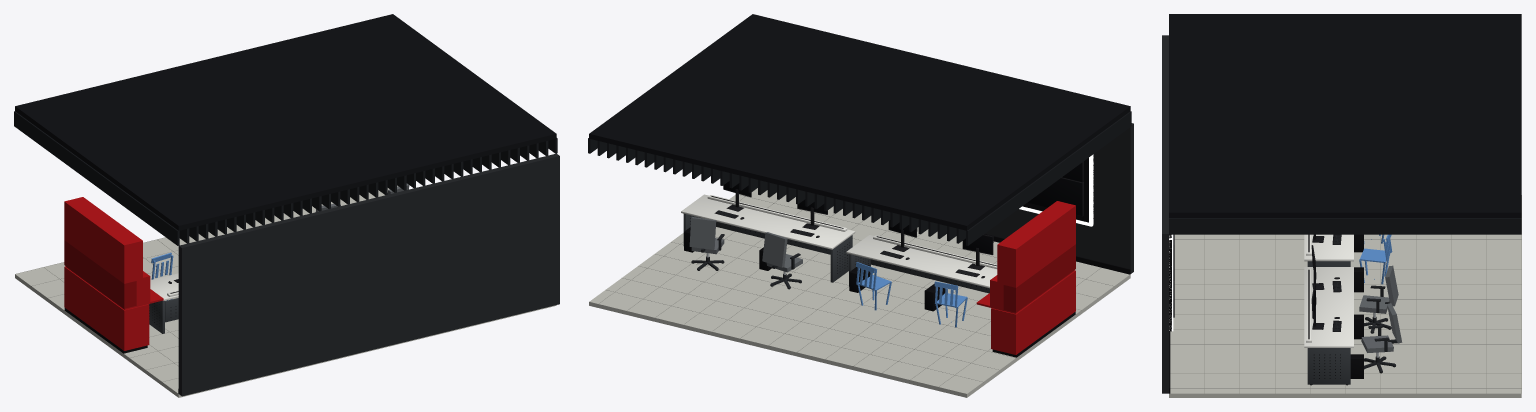
The model's file is ecc-monitoring-room-90e0ba50.glb.
The picture shows the model from 3 angles, left to right: view 1: azimuth 30°, elevation 25°; view 2: azimuth 150°, elevation 25°; view 3: azimuth 270°, elevation 25°; orthographic projection. The views are drawn at different scales.
Visible parts, largest first — view 1: ECC_CeilSlab, ECC_WallF, ECC_FC_Cabinet, ECC_Baffles, ECC_Floor, ECC_Desk1_Frame; view 2: ECC_CeilSlab, ECC_Floor, ECC_FC_Cabinet, ECC_Baffles, ECC_WallF, ECC_Desk2_Frame, ECC_Desk1_Frame, ECC_FloorSeams, ECC_VW_Tiles, ECC_Chair_O1, ECC_Chair_O2, ECC_Chair_B1 (+4 smaller); view 3: ECC_CeilSlab, ECC_Floor, ECC_Baffles, ECC_Desk2_Frame, ECC_FloorSeams, ECC_WallF, ECC_Desk1_Frame, ECC_Chair_O1, ECC_Chair_O2, ECC_Chair_B2, ECC_Desk2_WS2_PC.
Boxes of the visible parts, box(x1,y1,x2,y2) form: ECC_CeilSlab: box(15, 14, 556, 230); ECC_WallF: box(178, 153, 559, 396); ECC_FC_Cabinet: box(64, 197, 163, 353); ECC_Baffles: box(14, 111, 557, 245); ECC_Floor: box(15, 185, 556, 397); ECC_Desk1_Frame: box(149, 273, 178, 333); ECC_CeilSlab: box(589, 14, 1130, 230); ECC_Floor: box(589, 188, 1130, 397); ECC_FC_Cabinet: box(976, 201, 1075, 357); ECC_Baffles: box(588, 111, 1131, 245); ECC_WallF: box(985, 123, 1133, 273); ECC_Desk2_Frame: box(681, 194, 855, 282); ECC_Desk1_Frame: box(846, 235, 997, 293); ECC_FloorSeams: box(589, 194, 1113, 393); ECC_VW_Tiles: box(1027, 161, 1083, 216); ECC_Chair_O1: box(762, 232, 802, 289); ECC_Chair_O2: box(689, 217, 724, 270); ECC_Chair_B1: box(934, 281, 967, 327); ECC_CeilSlab: box(1169, 14, 1521, 217); ECC_Floor: box(1169, 234, 1521, 397); ECC_Baffles: box(1169, 218, 1521, 234); ECC_Desk2_Frame: box(1304, 267, 1353, 385); ECC_FloorSeams: box(1170, 195, 1521, 393); ECC_WallF: box(1162, 35, 1168, 393); ECC_Desk1_Frame: box(1304, 234, 1353, 266); ECC_Chair_O1: box(1359, 265, 1398, 333); ECC_Chair_O2: box(1361, 303, 1402, 373); ECC_Chair_B2: box(1359, 234, 1392, 284); ECC_Desk2_WS2_PC: box(1350, 354, 1363, 378).
Bounding box in the file's own units: 8.05 × 3.48 × 6.13.
